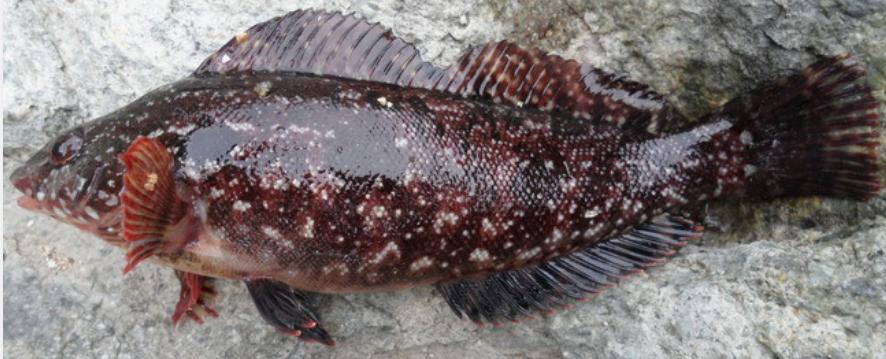fish: (14, 10, 879, 345)
